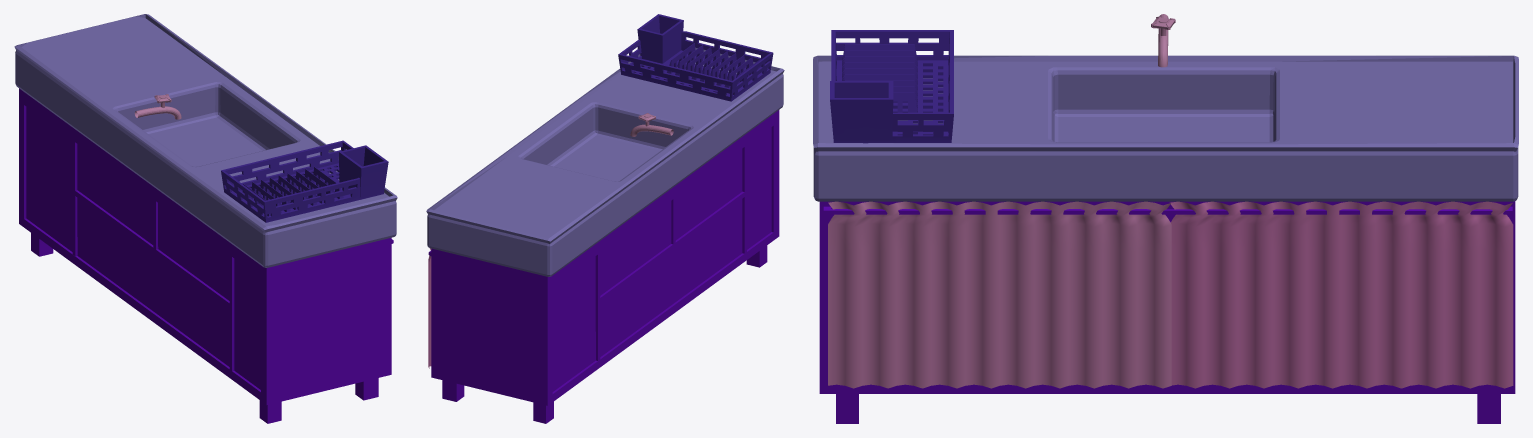
Rendered from PROP_Pia.fbx.
The picture shows the model from 3 angles, left to right: view 1: azimuth 30°, elevation 25°; view 2: azimuth 150°, elevation 25°; view 3: azimuth 270°, elevation 25°; orthographic projection. The views are drawn at different scales.
Visible parts, largest first — view 1: GabineteCozinha, Pia, EscorredorLouça, Torneira1; view 2: GabineteCozinha, Pia, EscorredorLouça, Torneira1, CortinaPia2; view 3: Pia, CortinaPia, CortinaPia2, GabineteCozinha, EscorredorLouça, Torneira1.
Part boxes in pixels (box(x1,y1,x2,y2)): GabineteCozinha: box(19, 88, 393, 423); Pia: box(14, 14, 397, 267); EscorredorLouça: box(221, 140, 388, 222); Torneira1: box(134, 94, 181, 119); GabineteCozinha: box(428, 110, 779, 423); Pia: box(426, 47, 784, 276); EscorredorLouça: box(618, 14, 773, 101); Torneira1: box(630, 113, 673, 136); CortinaPia2: box(428, 248, 431, 368); Pia: box(813, 55, 1518, 201); CortinaPia: box(828, 201, 1171, 388); CortinaPia2: box(1170, 201, 1513, 388); GabineteCozinha: box(819, 201, 1515, 423); EscorredorLouça: box(830, 30, 953, 143); Torneira1: box(1151, 14, 1175, 67).
Size of the model in its own units: 7.81 by 12.81 by 24.4.
